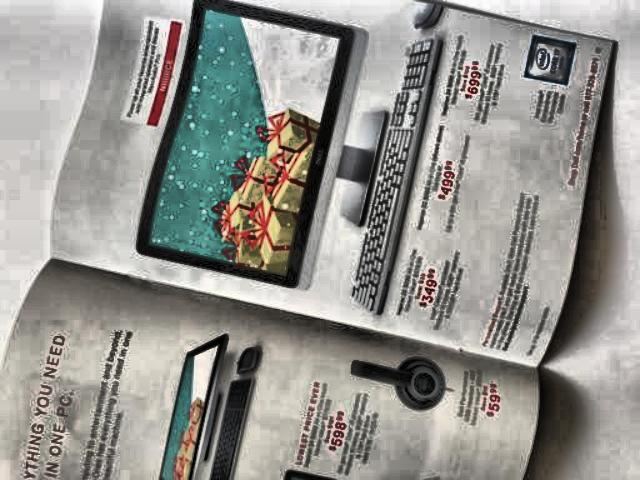Paper: (0, 6, 597, 480)
